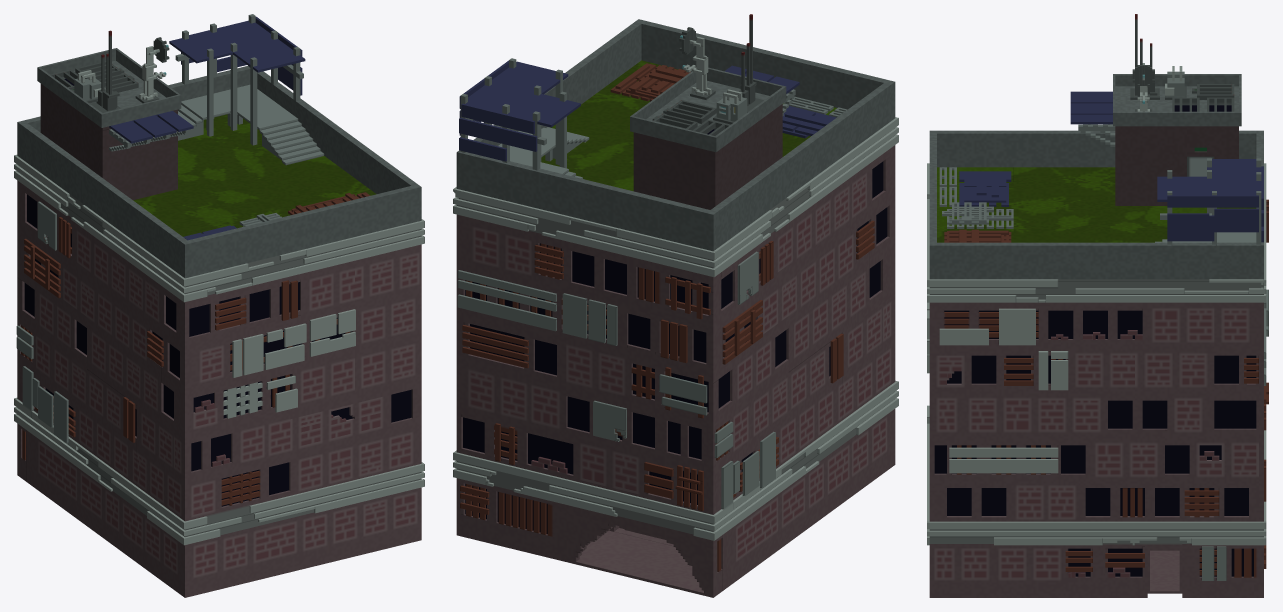
File: siedziba_zbirow_budynek.dae
3 renders of one model, left to right at view 1: azimuth 30°, elevation 25°; view 2: azimuth 150°, elevation 25°; view 3: azimuth 270°, elevation 25°, orthographic. The views are drawn at different scales.
Parts seen in each view (by area): view 1: Content; view 2: Content; view 3: Content.
Boxes of the visible parts, left/top/right/bottom form: Content: left=14, top=14, right=424, bottom=597; Content: left=453, top=14, right=898, bottom=597; Content: left=927, top=14, right=1268, bottom=597.
Bounding box in the file's own units: 113 × 215 × 138.
Materials: 1 (1 with a texture image).
